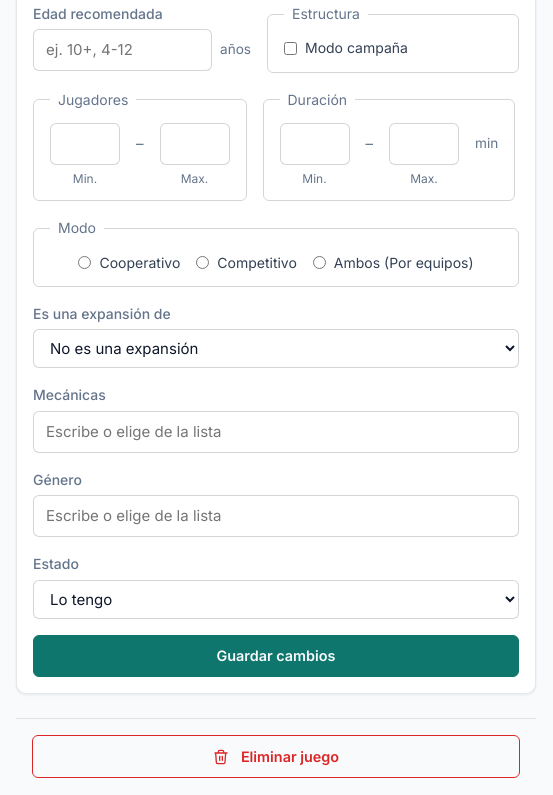
Test: EditGameView delete › does not delete on the first click, but arms a confirmation instead
(page scrolled)
Click the button "Eliminar juego": click(276, 757) [32,735,520,778]
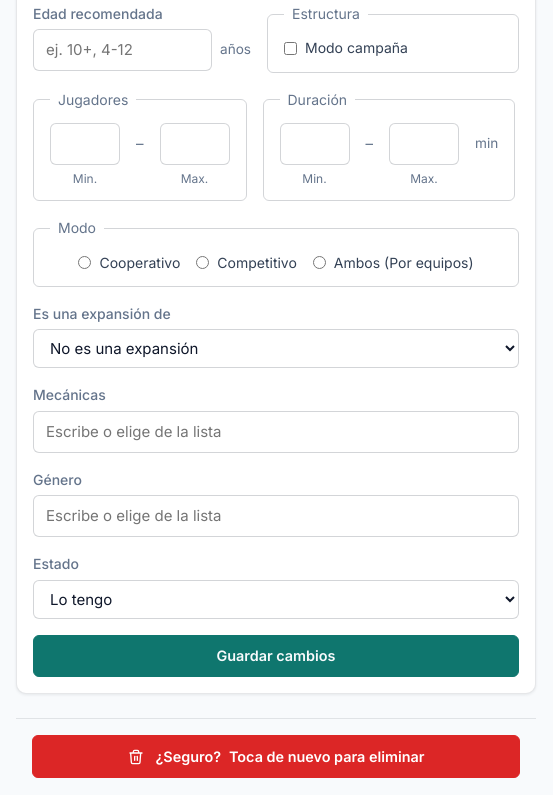
Check: the button "¿Seguro? Toca de nuevo para eliminar" is shown, box [32,735,520,778]
